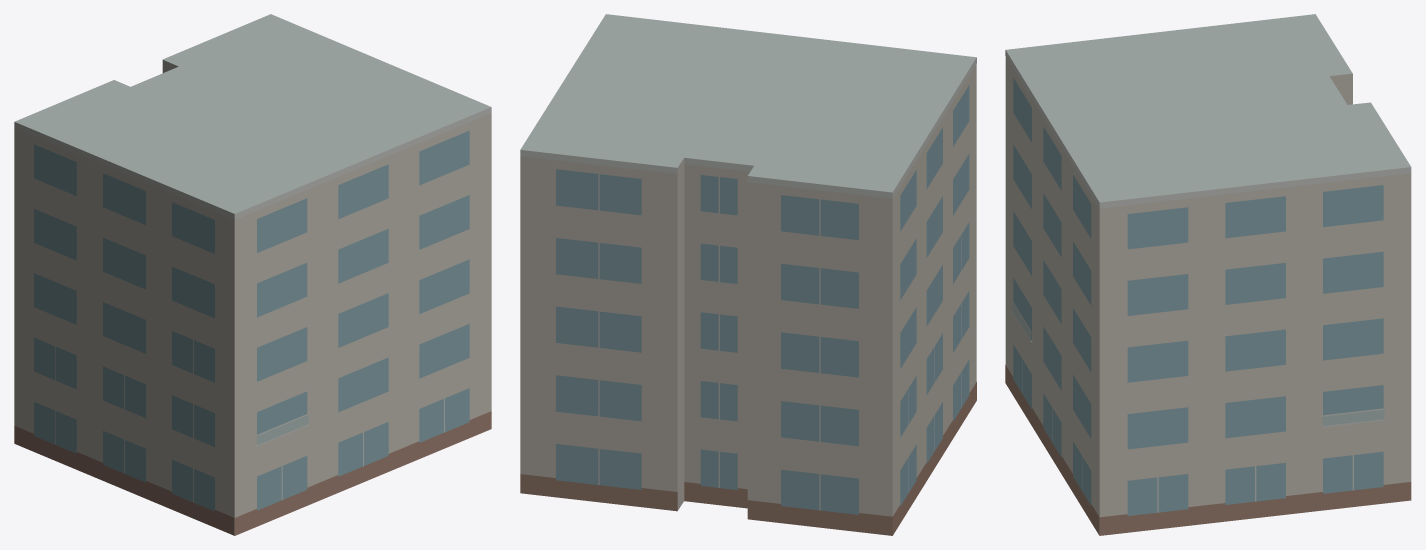
Rendered from survey-upis-32687776.glb.
3 renders of one model, left to right at view 1: azimuth 30°, elevation 25°; view 2: azimuth 150°, elevation 25°; view 3: azimuth 270°, elevation 25°, orthographic. The views are drawn at different scales.
Visible parts, largest first — view 1: survey-upis-32687776.tmp; view 2: survey-upis-32687776.tmp; view 3: survey-upis-32687776.tmp.
Boxes of the visible parts, x1,y1,x2,y2 form: survey-upis-32687776.tmp: (14,14,491,535); survey-upis-32687776.tmp: (520,14,976,535); survey-upis-32687776.tmp: (1005,14,1411,535).
Bounding box in the file's own units: 16.17 × 13.32 × 14.71.
